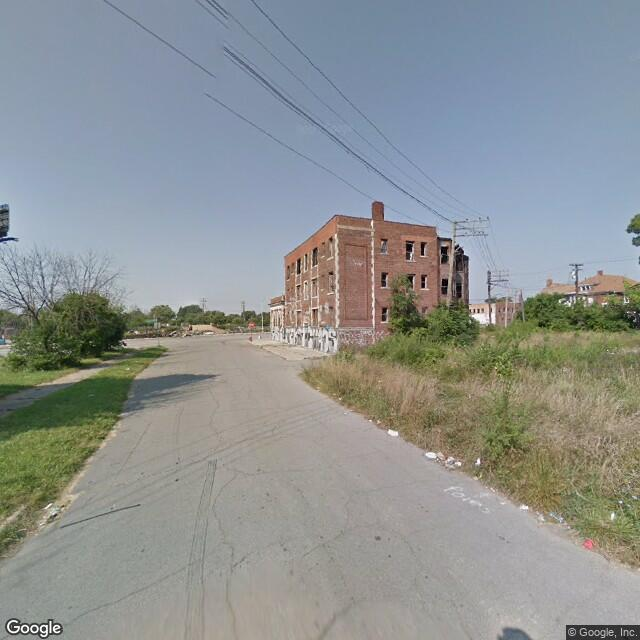litter: (441, 450, 464, 471), (577, 535, 598, 553), (326, 390, 347, 402), (38, 501, 56, 514), (119, 363, 136, 375), (366, 414, 381, 427), (469, 455, 488, 465), (605, 512, 620, 521), (614, 496, 628, 505)
